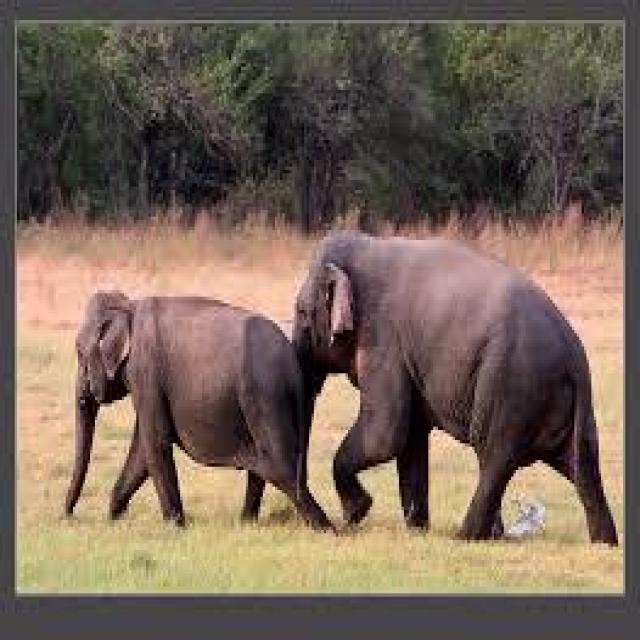Elephant: (312, 240, 574, 563), (63, 283, 324, 540)
